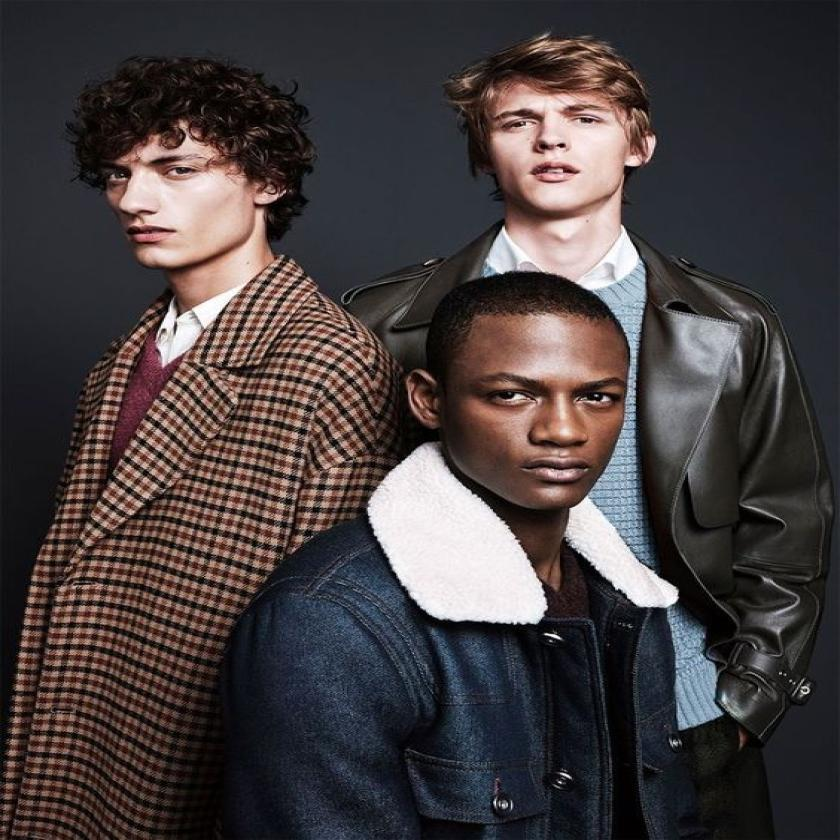Sin_casco: (410, 269, 649, 532), (83, 54, 311, 288), (462, 41, 660, 241)
